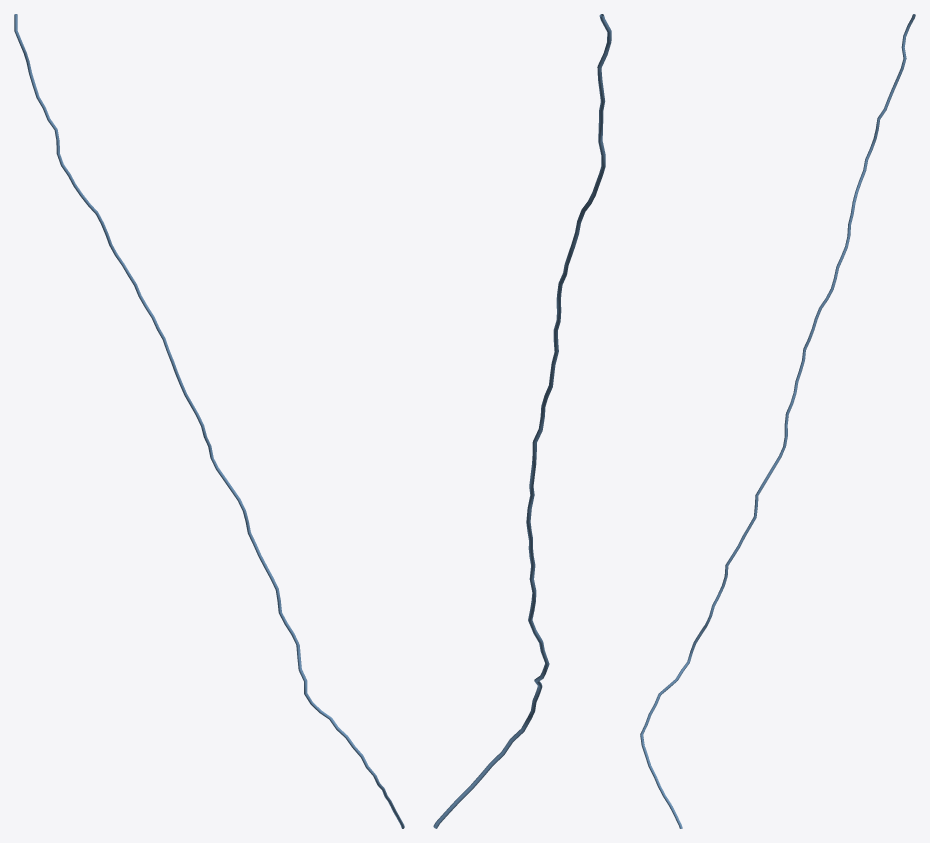
File: sweep266.fbx
The picture shows the model from 3 angles, left to right: view 1: azimuth 30°, elevation 25°; view 2: azimuth 150°, elevation 25°; view 3: azimuth 270°, elevation 25°; orthographic projection. The views are drawn at different scales.
Parts seen in each view (by area): view 1: sweep266; view 2: sweep266; view 3: sweep266.
Boxes of the visible parts, x1=… form: sweep266: x1=14, y1=14, x2=404, y2=828; sweep266: x1=433, y1=14, x2=611, y2=828; sweep266: x1=640, y1=14, x2=915, y2=828.
Size of the model in its own units: 1.73 by 4.93 by 1.75.
